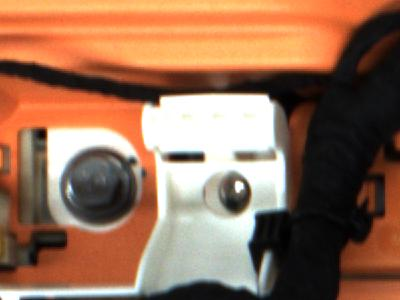nut_b: (58, 148, 144, 231)
